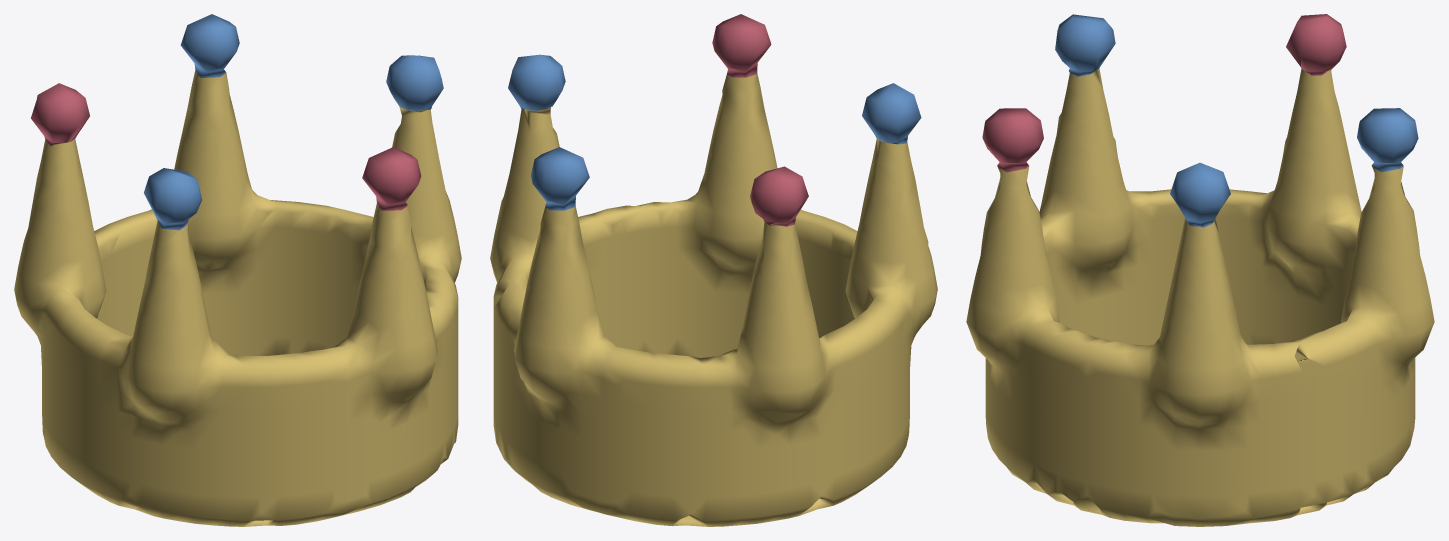
File: crown.glb
The picture shows the model from 3 angles, left to right: view 1: azimuth 30°, elevation 25°; view 2: azimuth 150°, elevation 25°; view 3: azimuth 270°, elevation 25°; orthographic projection. The views are drawn at different scales.
Parts seen in each view (by area): view 1: crown; view 2: crown; view 3: crown.
Part boxes in pixels (x1,y1,x2,y2): crown: [14, 14, 461, 526]; crown: [490, 14, 937, 526]; crown: [966, 14, 1434, 526].
Size of the model in its own units: 38.5 by 33.58 by 39.24.
